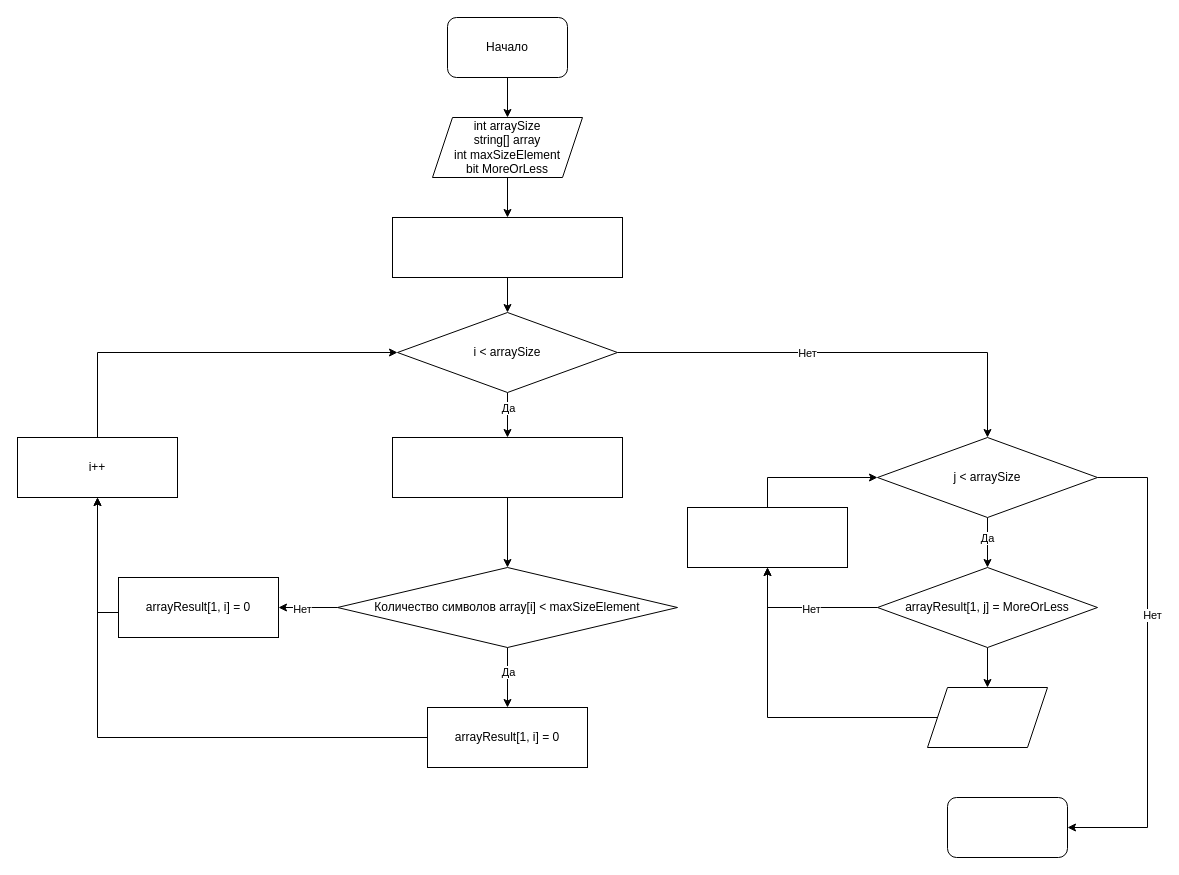
Image size: 1179x875. Some labels were removed from this diagram. The centre of each missing label's shape, as x and y in pixels:
"arrayResult[0, i] = array[i]" goes at pixel 507 467.
"int i = 0 int j = 0 string[,] arrayResult = new string[2, arraySize]" goes at pixel 507 247.
"j++" goes at pixel 767 537.
"Вывести arrayResult[0, j]" goes at pixel 987 717.
"Конец" goes at pixel 1007 827.
